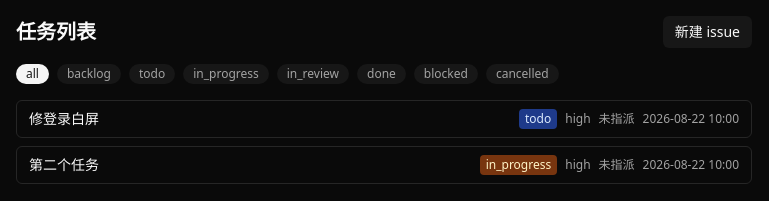
it: IssueListPage › 点击状态过滤只显示该状态的 issue
Expected: the text "修登录白屏" is shown, 29,109 -> 99,128
Click the button "in_progress".
click(226, 74)  # box 183,64 -> 269,84
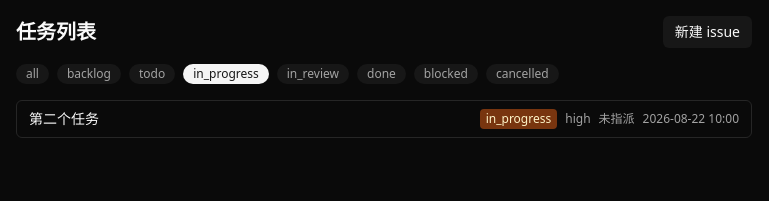
Expected: the text "第二个任务" is shown, 29,109 -> 99,128
Expected: the link "修登录白屏" is gone
Click the button "all".
click(32, 74)  # box 16,64 -> 49,84
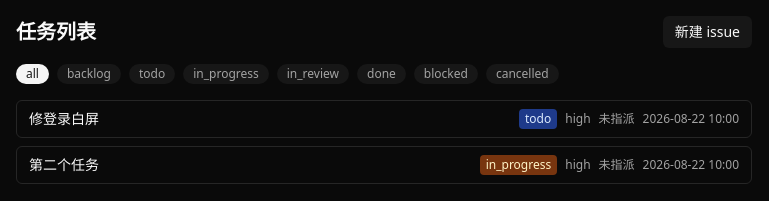
Expected: the text "修登录白屏" is shown, 29,109 -> 99,128
